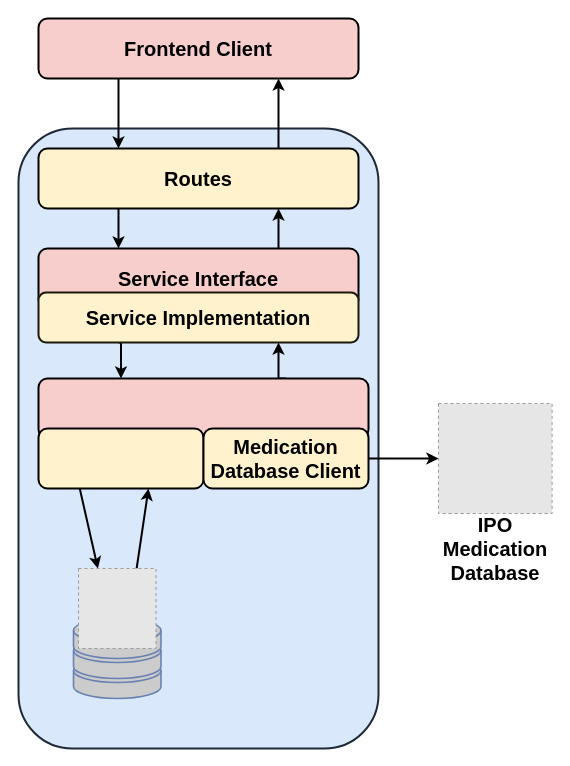
This 570x766 diagram has some shape labels left out. Grey dashed boxes stand in for pictures. Each missing label, with the box of its shape:
Repository Implementation: (37, 427, 204, 489)
Repository Interface: (37, 377, 369, 439)
